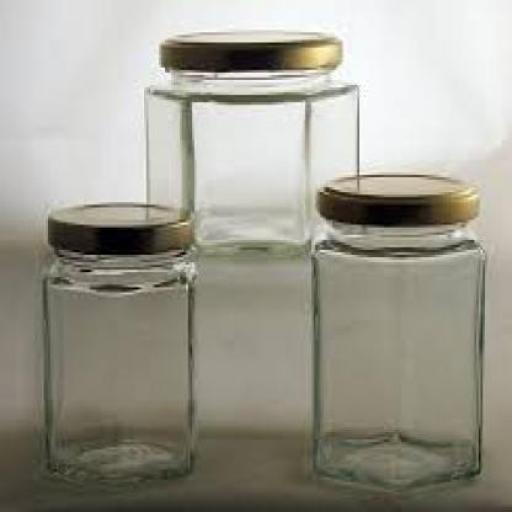glass: (310, 220, 480, 492), (144, 70, 358, 252), (42, 245, 194, 482)
metal: (313, 172, 477, 223), (46, 200, 193, 252), (159, 30, 338, 68)
